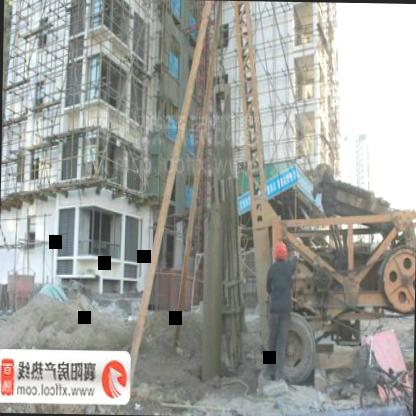helmet: (272, 240, 289, 264)
